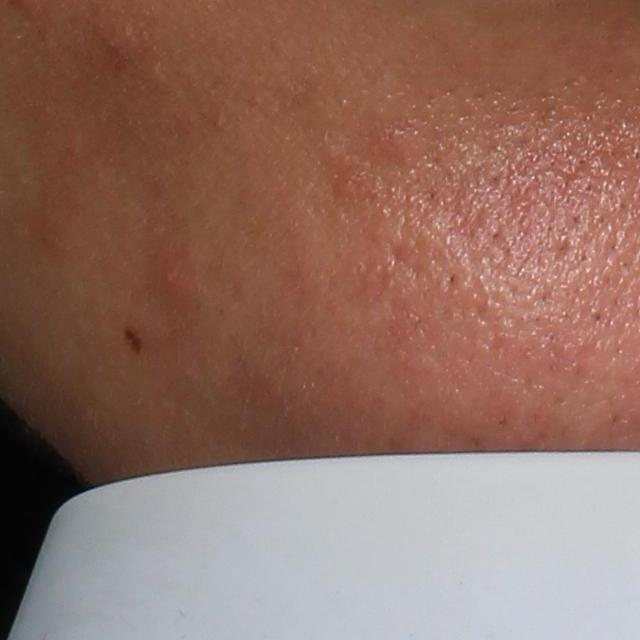nevus: (123, 325, 147, 357)
papule: (97, 13, 147, 65), (148, 250, 190, 305)
